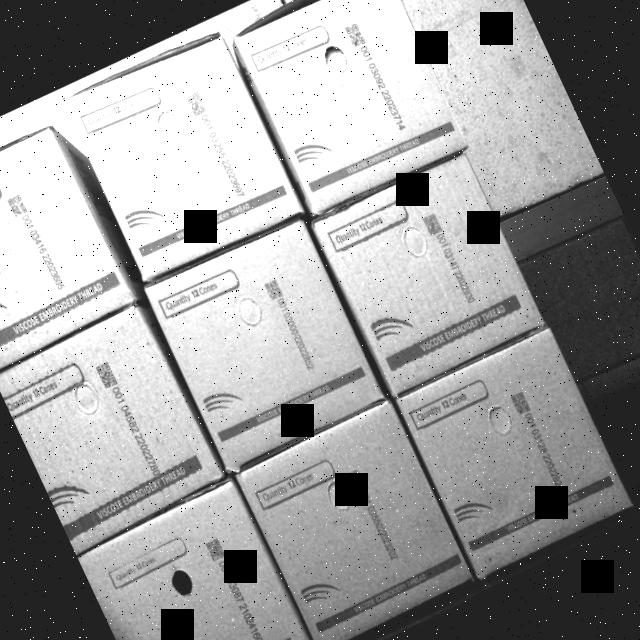box: (62, 23, 303, 282), (144, 215, 388, 470), (393, 326, 634, 582), (312, 150, 546, 398), (0, 298, 228, 547), (237, 403, 472, 640), (228, 0, 468, 215), (72, 471, 319, 640), (0, 117, 134, 368)
